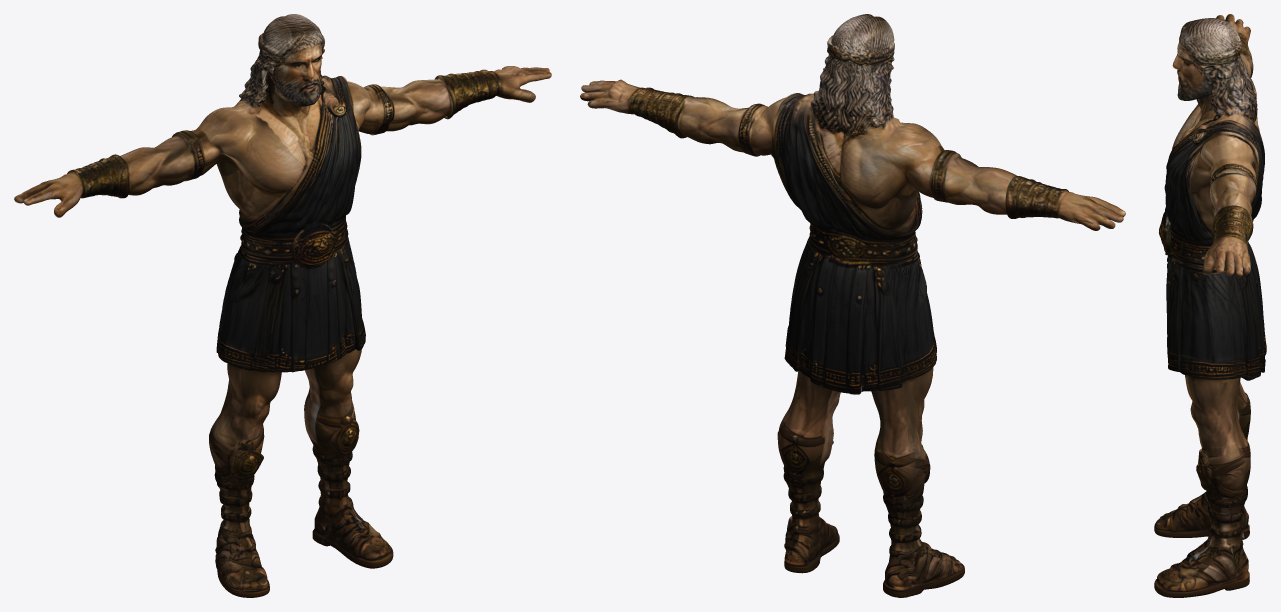
Rendered from cronus-mixamo.fbx.
3 views of the same model, side by side, from view 1: azimuth 30°, elevation 25°; view 2: azimuth 150°, elevation 25°; view 3: azimuth 270°, elevation 25° (orthographic). The views are drawn at different scales.
Parts seen in each view (by area): view 1: tripo_node_edb64ee8-8aff-4a17-a373-130ac83ef465; view 2: tripo_node_edb64ee8-8aff-4a17-a373-130ac83ef465; view 3: tripo_node_edb64ee8-8aff-4a17-a373-130ac83ef465.
Boxes of the visible parts, x1,y1,x2,y2 form: tripo_node_edb64ee8-8aff-4a17-a373-130ac83ef465: (14, 14, 551, 597); tripo_node_edb64ee8-8aff-4a17-a373-130ac83ef465: (580, 14, 1125, 597); tripo_node_edb64ee8-8aff-4a17-a373-130ac83ef465: (1154, 14, 1266, 597).
Bounding box in the file's own units: 1 × 0.9768 × 0.1843.
1 material, 1 textured.
